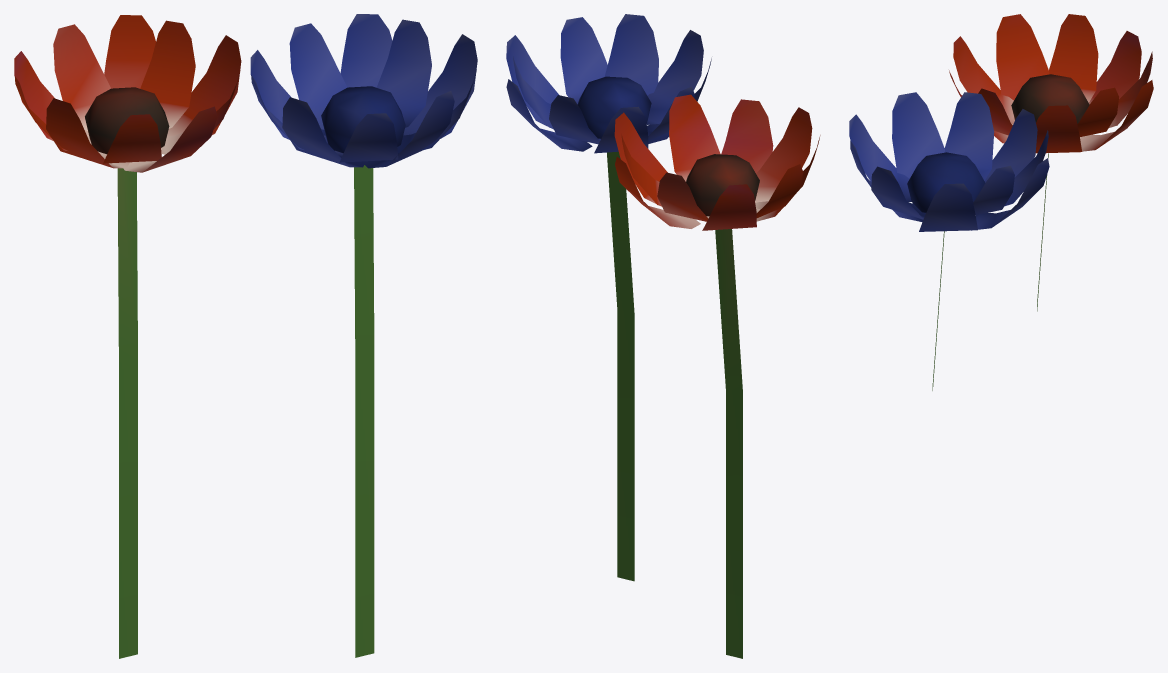
Rendered from Anemone.fbx.
3 renders of one model, left to right at view 1: azimuth 30°, elevation 25°; view 2: azimuth 150°, elevation 25°; view 3: azimuth 270°, elevation 25°, orthographic. The views are drawn at different scales.
Visible parts, largest first — view 1: Anemone, Anemone 2; view 2: Anemone 2, Anemone; view 3: Anemone, Anemone 2.
Part boxes in pixels (left/top/right/bottom): Anemone: left=250, top=14, right=477, bottom=657; Anemone 2: left=14, top=15, right=241, bottom=658; Anemone 2: left=614, top=94, right=820, bottom=658; Anemone: left=506, top=14, right=711, bottom=581; Anemone: left=849, top=92, right=1049, bottom=390; Anemone 2: left=949, top=14, right=1153, bottom=311.
Size of the model in its own units: 39.03 by 56.69 by 29.76.
